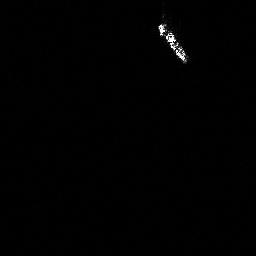ship: (156, 21, 190, 65)
